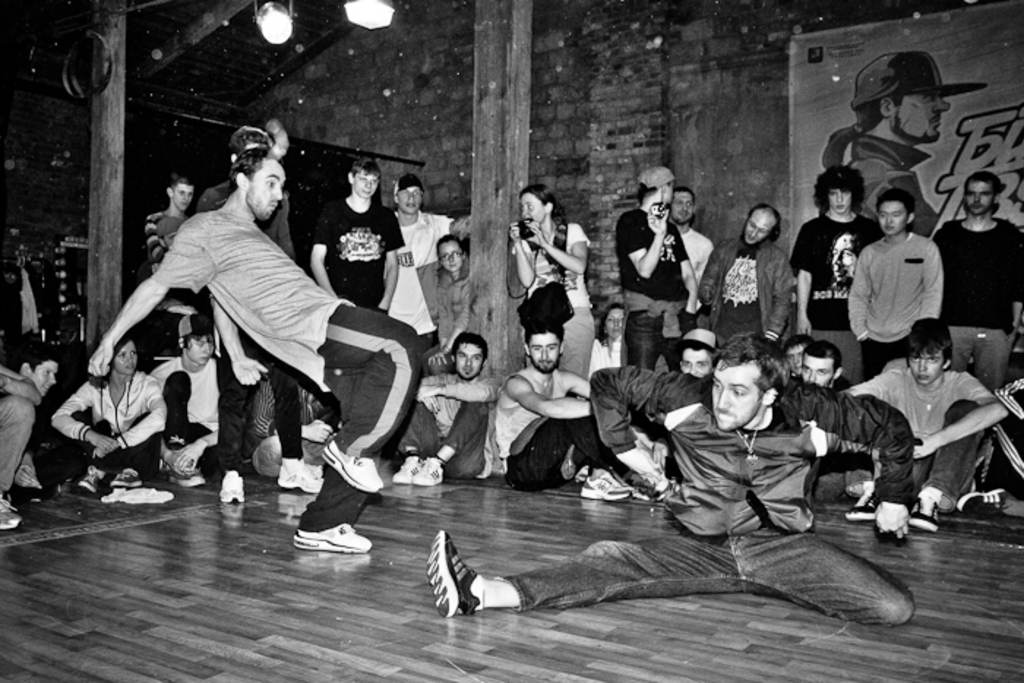Person: (0, 51, 1024, 627)
